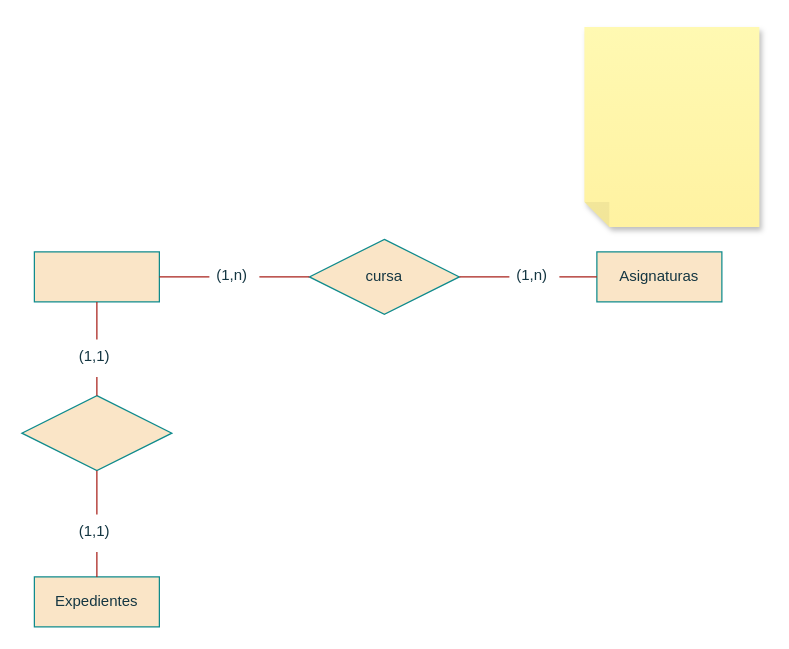
This 789x649 diagram has some shape labels left out. Here are the shapes that lost their labels. From the top down, the centre of each, then its label:
At (x=96, y=276): "Alumnos".
At (x=96, y=432): "Tiene".
